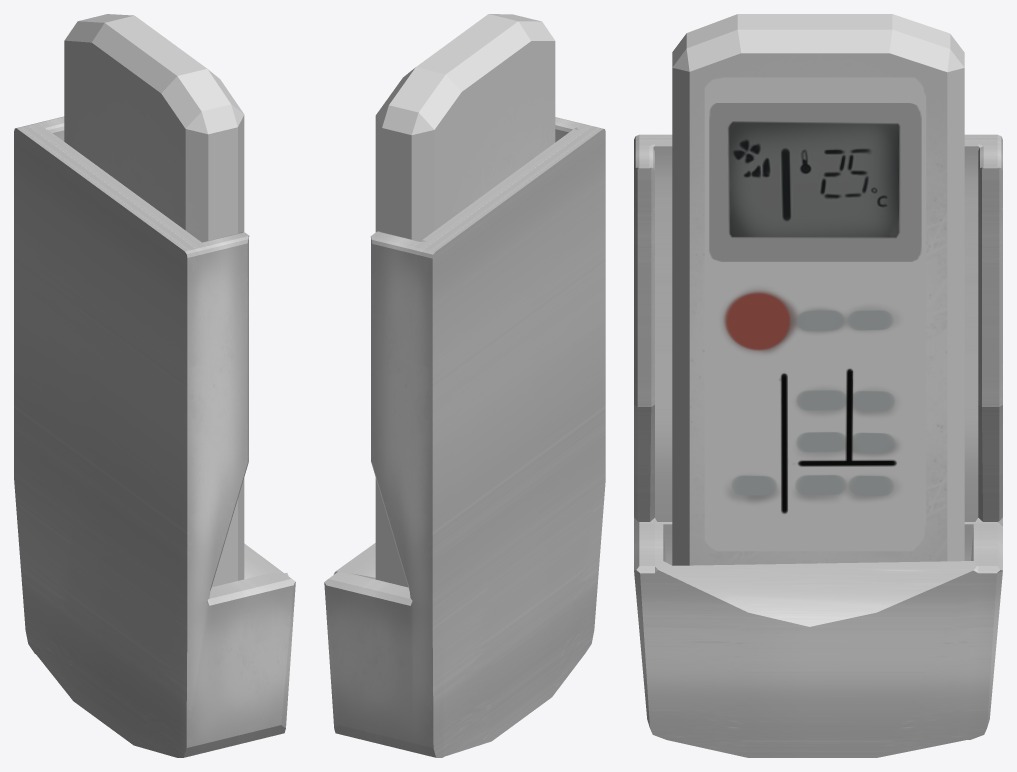
File: airconditioner_remote.fbx
3 views of the same model, side by side, from view 1: azimuth 30°, elevation 25°; view 2: azimuth 150°, elevation 25°; view 3: azimuth 270°, elevation 25° (orthographic). The views are drawn at different scales.
Visible parts, largest first — view 1: airconditioner_remote_mesh; view 2: airconditioner_remote_mesh; view 3: airconditioner_remote_mesh.
Boxes of the visible parts, box(x1,y1,x2,y2) form: airconditioner_remote_mesh: box(14, 14, 295, 757); airconditioner_remote_mesh: box(324, 14, 605, 757); airconditioner_remote_mesh: box(634, 14, 1002, 757).
Bounding box in the file's own units: 0.4938 × 2.82 × 1.33.
